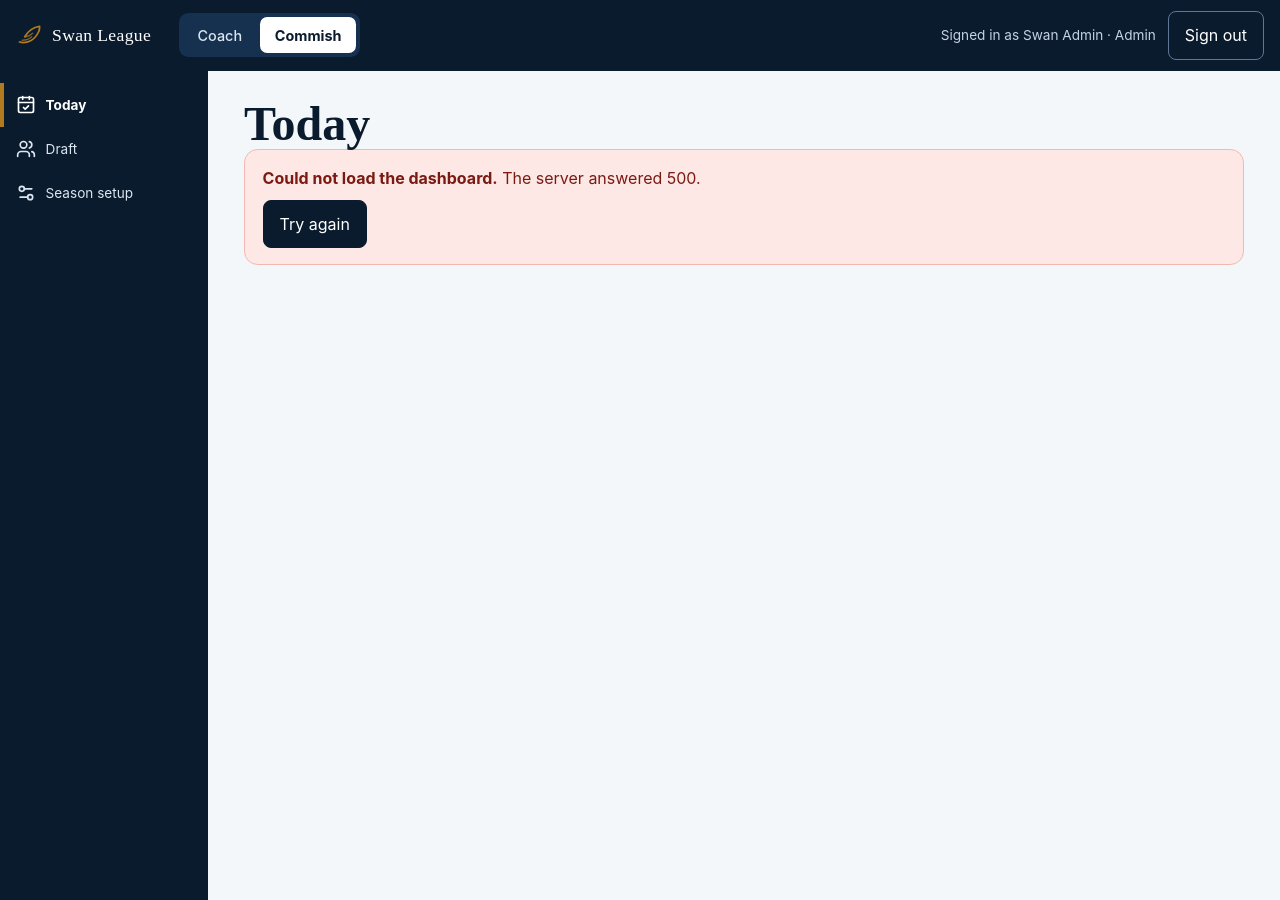
a failed load shows an alert and Try again recovers
The width and height of the screenshot is (1280, 900).
Expected: the message shows "The server answered 500.", [502,168,701,188]
Click the button "Try again". click: (315,224)
box: [263,200,367,248]
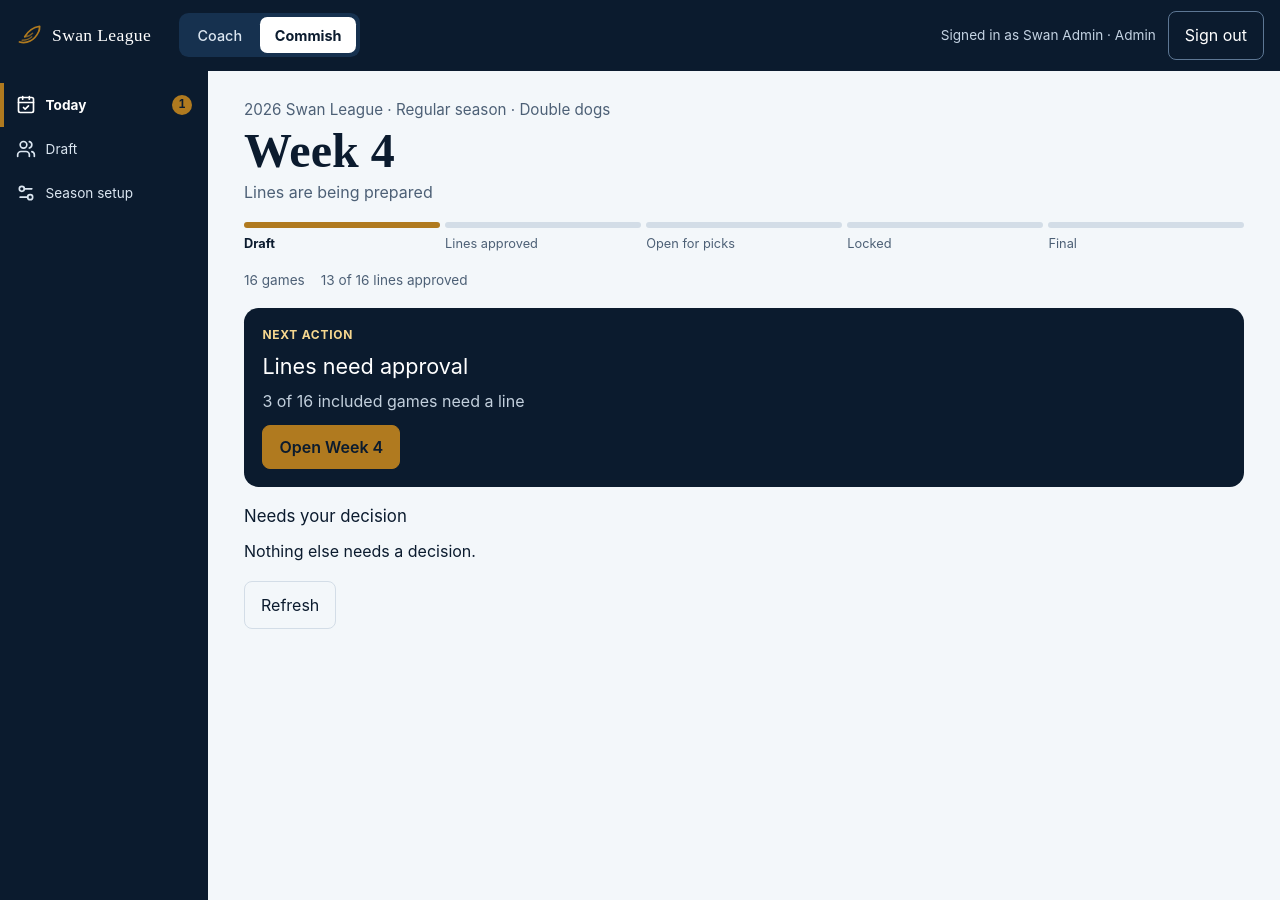
Expected: the heading "Week 4" is shown, [244,124,395,176]
Expected: the message "Could not load the dashboard. The server answered 500. Try again" is gone
